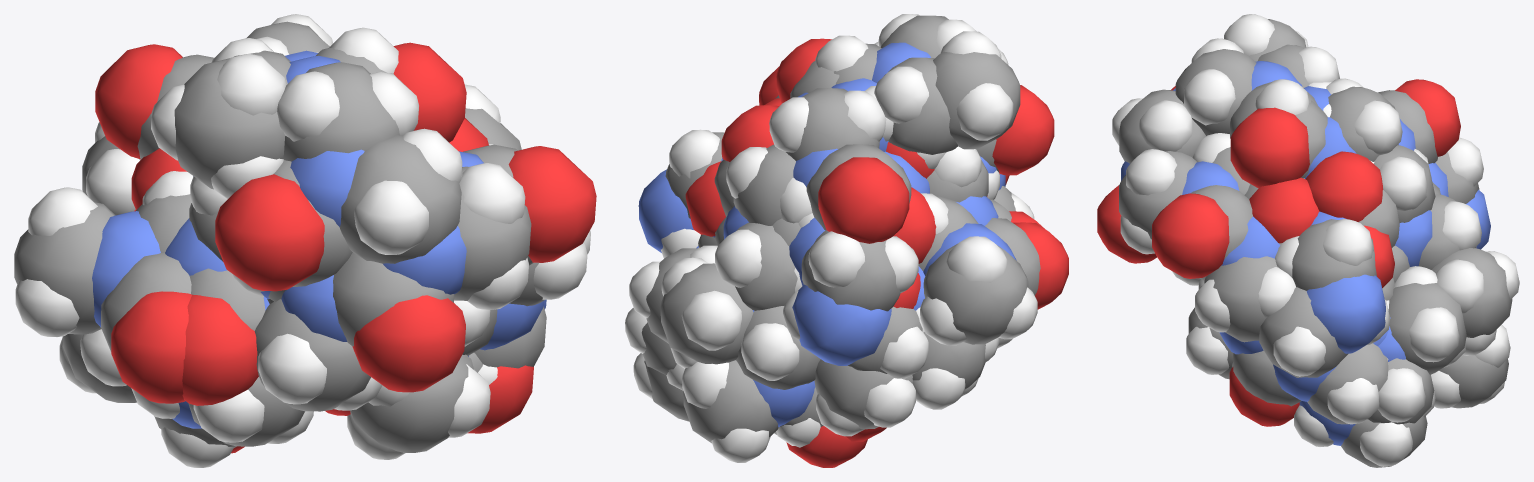
The model's file is Duroplast_Sphere_black.glb.
3 views of the same model, side by side, from view 1: azimuth 30°, elevation 25°; view 2: azimuth 150°, elevation 25°; view 3: azimuth 270°, elevation 25° (orthographic). The views are drawn at different scales.
Parts seen in each view (by area): view 1: VSph068, VSph019, VSph001, VSph057, VSph169, VSph129, VSph115, VSph128, VSph039, VSph145, VSph004, VSph008 (+55 smaller); view 2: VSph039, VSph128, VSph063, VSph001, VSph101, VSph142, VSph068, VSph064, VSph150, VSph002, VSph090, VSph082 (+66 smaller); view 3: VSph169, VSph010, VSph079, VSph113, VSph135, VSph167, VSph060, VSph101, VSph080, VSph078, VSph004, VSph117 (+64 smaller).
Part boxes in pixels (<box>): VSph068: <box>215,174,324,291</box>; VSph019: <box>352,295,465,392</box>; VSph001: <box>174,58,285,189</box>; VSph057: <box>340,135,461,263</box>; VSph169: <box>508,146,596,262</box>; VSph129: <box>111,291,191,403</box>; VSph115: <box>182,294,258,405</box>; VSph128: <box>14,202,115,334</box>; VSph039: <box>95,44,182,159</box>; VSph145: <box>350,354,473,452</box>; VSph004: <box>283,62,399,161</box>; VSph008: <box>333,252,454,346</box>; VSph039: <box>818,157,909,243</box>; VSph128: <box>923,243,1028,344</box>; VSph063: <box>792,284,891,365</box>; VSph001: <box>933,51,1020,149</box>; VSph101: <box>660,263,753,364</box>; VSph142: <box>683,360,778,443</box>; VSph068: <box>992,85,1054,175</box>; VSph064: <box>801,230,900,311</box>; VSph150: <box>786,88,879,160</box>; VSph002: <box>884,57,957,154</box>; VSph090: <box>735,222,797,310</box>; VSph082: <box>814,359,912,429</box>; VSph169: <box>1152,193,1229,278</box>; VSph010: <box>1230,107,1309,188</box>; VSph079: <box>1306,274,1385,353</box>; VSph113: <box>1305,151,1383,221</box>; VSph135: <box>1204,256,1277,342</box>; VSph167: <box>1388,283,1466,374</box>; VSph060: <box>1249,177,1319,243</box>; VSph101: <box>1432,248,1512,337</box>; VSph080: <box>1259,287,1348,377</box>; VSph078: <box>1292,219,1376,290</box>; VSph004: <box>1175,49,1256,135</box>; VSph117: <box>1307,343,1388,424</box>.
Size of the model in its own units: 0.3872 by 0.3466 by 0.3699.
